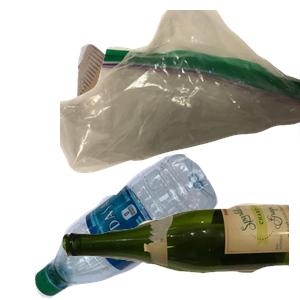cardboard: (74, 42, 225, 170)
glass: (60, 201, 300, 300)
plastic: (32, 154, 242, 300)
trash: (60, 10, 300, 176)
